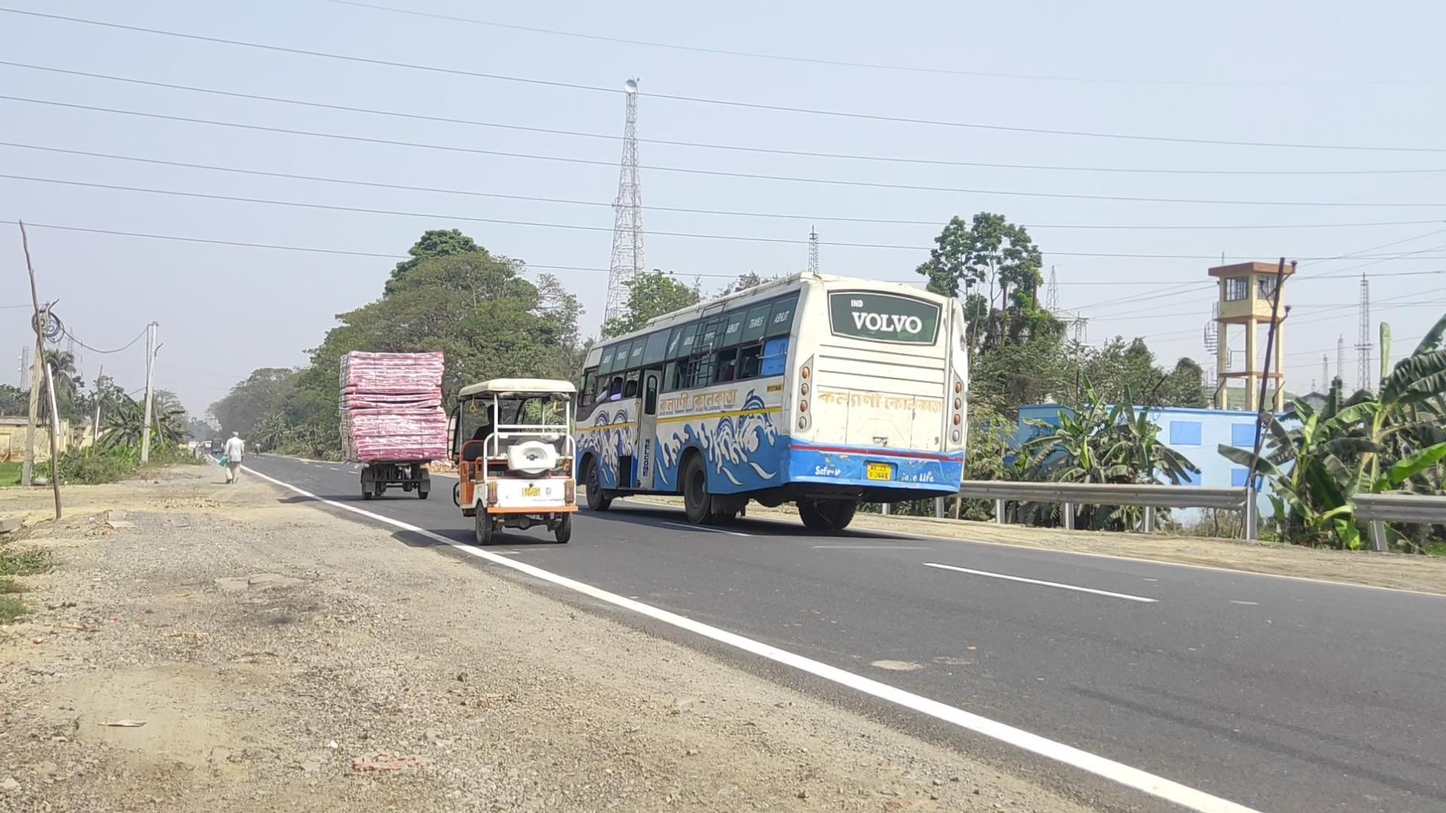Auto: (446, 377, 579, 545)
Bus: (574, 271, 969, 531)
